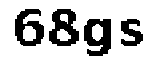6: (10, 2, 47, 51)
8: (48, 2, 80, 53)
g: (81, 14, 116, 60)
s: (118, 16, 146, 48)
